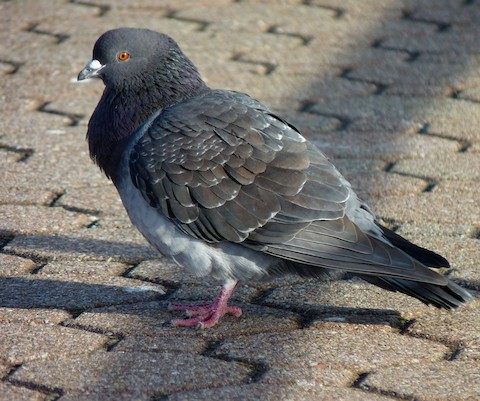pigeon: (77, 22, 465, 332)
